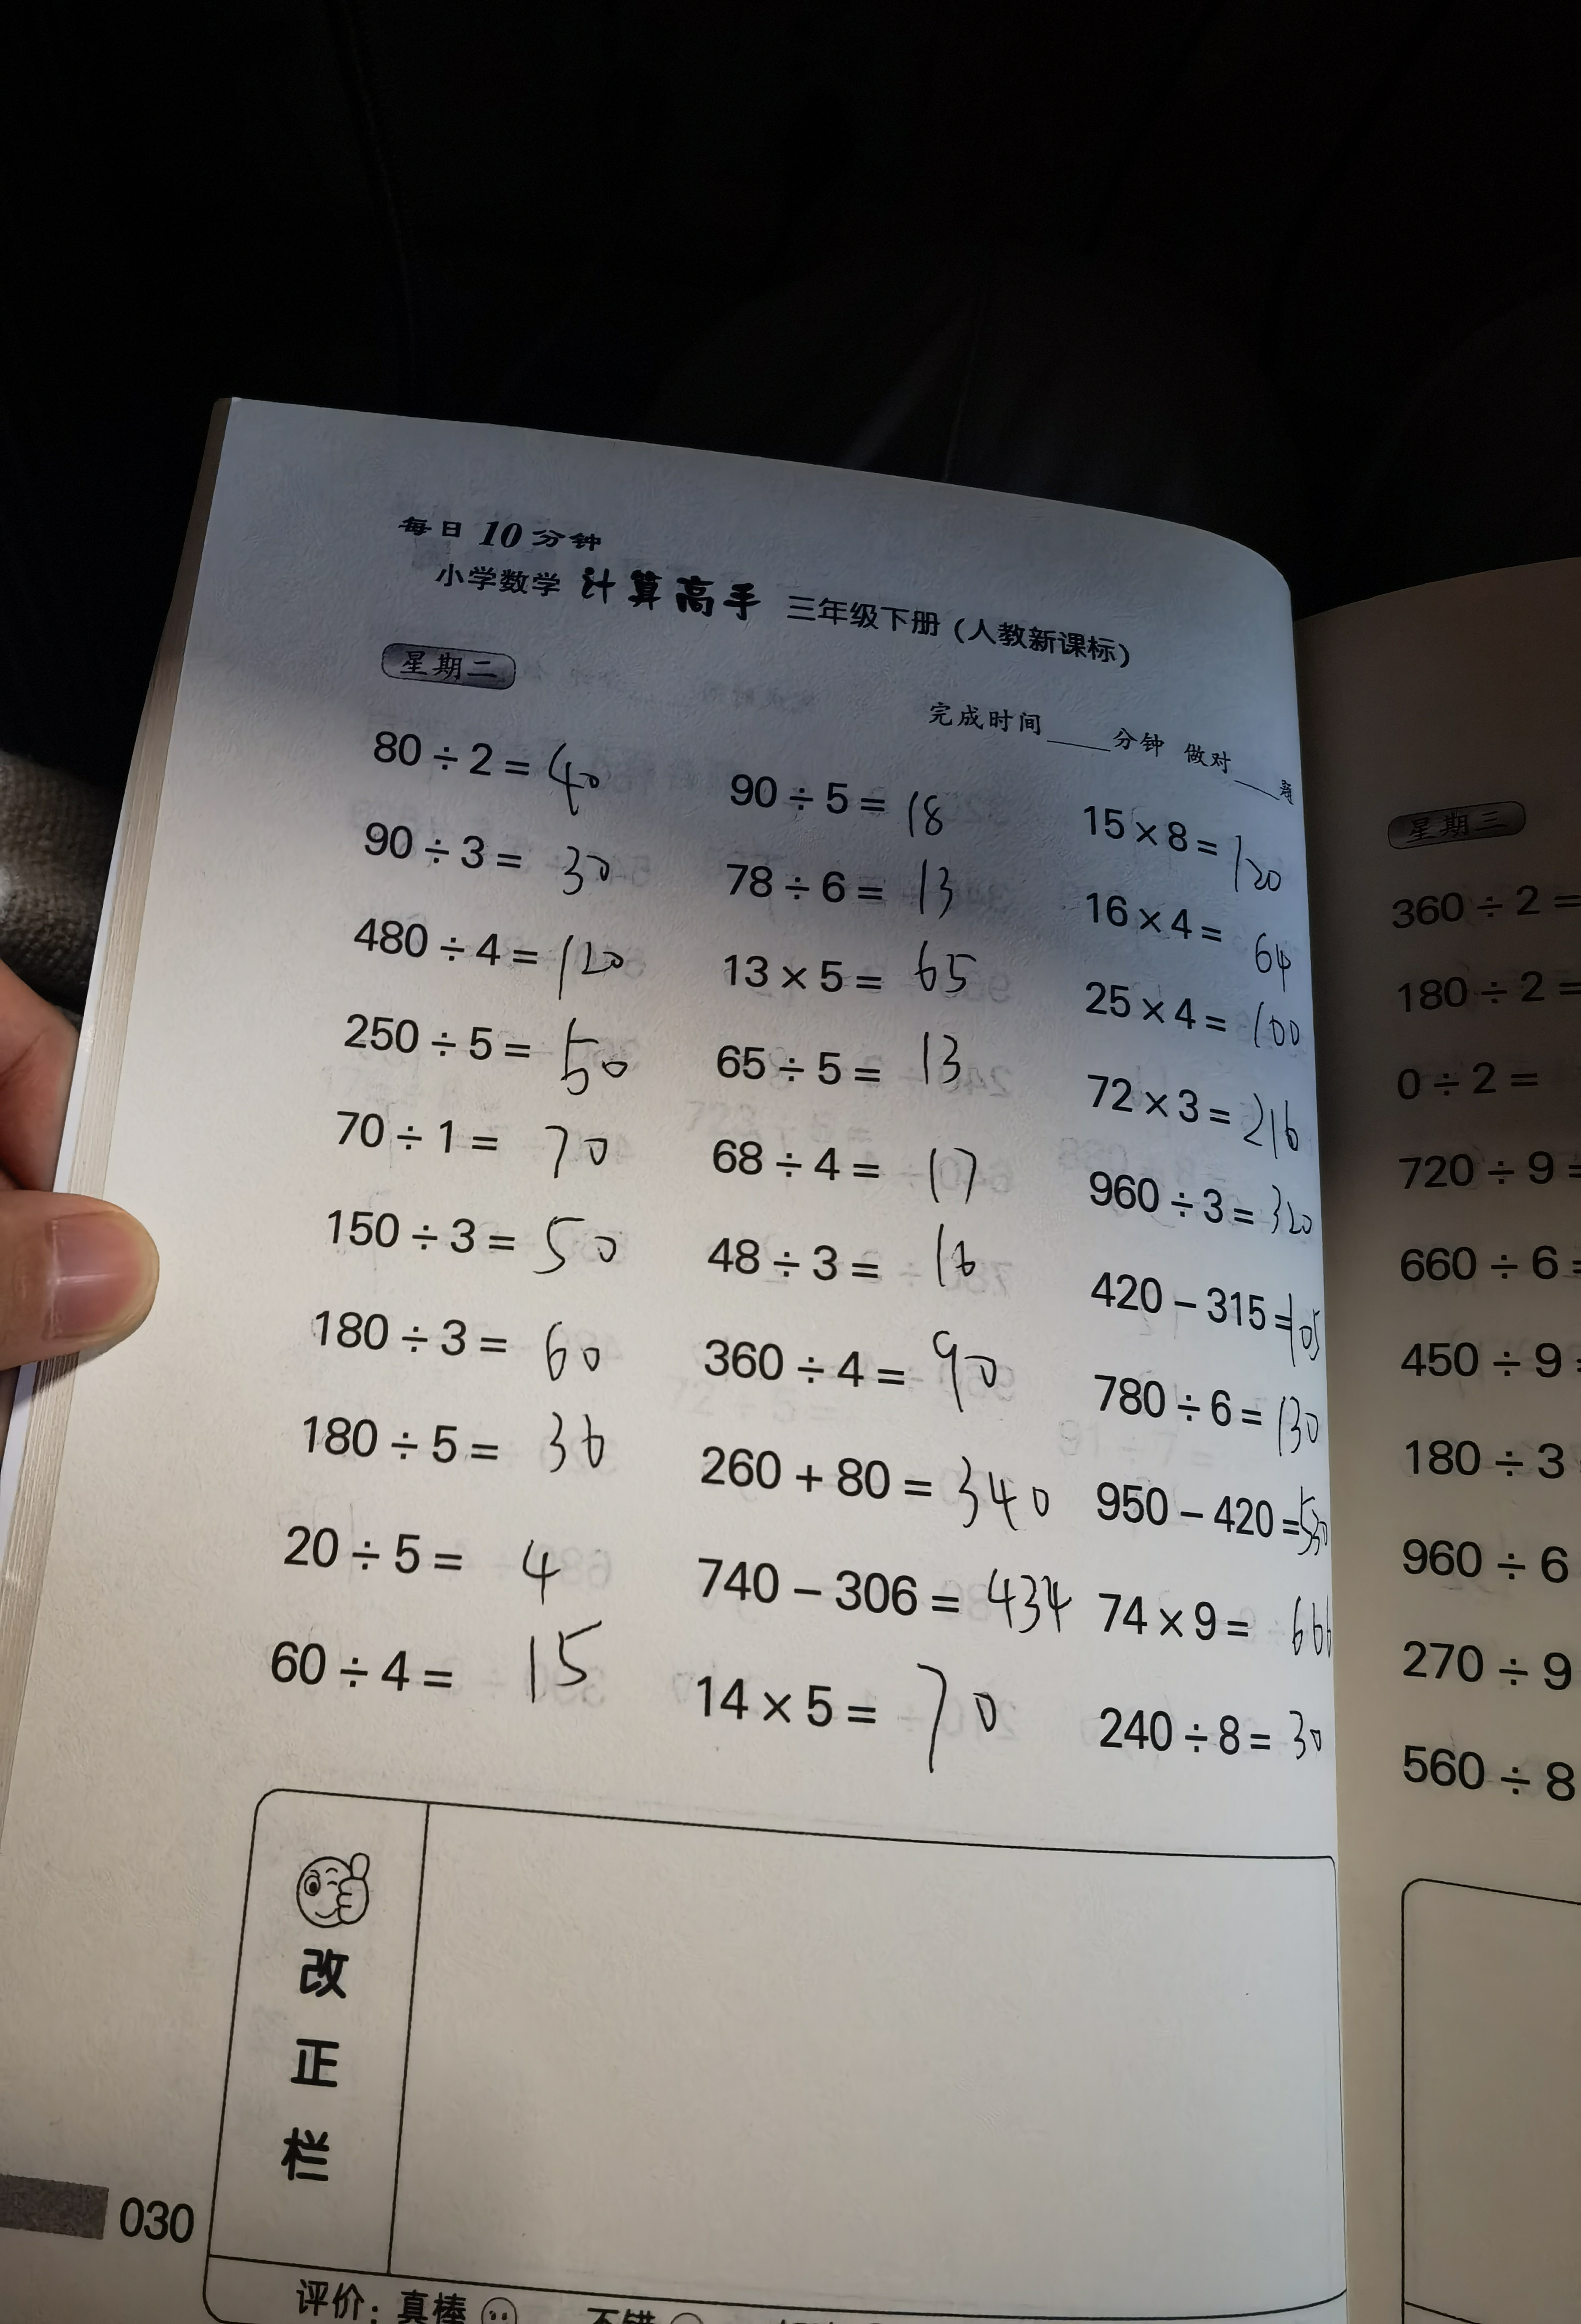equation: (220, 1615, 623, 1721), (681, 1420, 1070, 1529), (262, 1178, 611, 1294), (259, 1484, 580, 1610), (699, 1645, 1019, 1757), (333, 997, 642, 1109), (342, 693, 644, 807), (287, 1387, 629, 1484), (358, 807, 646, 916), (297, 1294, 609, 1391), (325, 1106, 641, 1200), (348, 909, 654, 1005), (689, 1329, 1021, 1416), (715, 739, 964, 851), (708, 924, 998, 1018), (699, 1550, 1085, 1620), (1092, 1580, 1349, 1682), (1084, 783, 1300, 904), (1085, 1689, 1345, 1787), (715, 1026, 1013, 1109), (1093, 1481, 1349, 1572), (1082, 1073, 1331, 1164), (710, 1225, 1024, 1296), (1089, 1273, 1335, 1359), (1082, 896, 1312, 982), (717, 1135, 986, 1208), (717, 844, 968, 922), (1095, 1373, 1328, 1453), (1093, 980, 1315, 1063), (1080, 1174, 1322, 1245)
